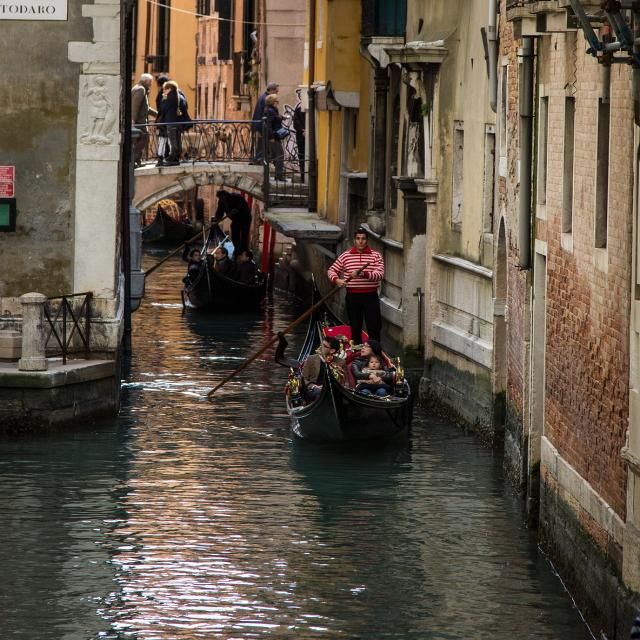boat: (269, 297, 439, 475), (164, 224, 282, 345)
